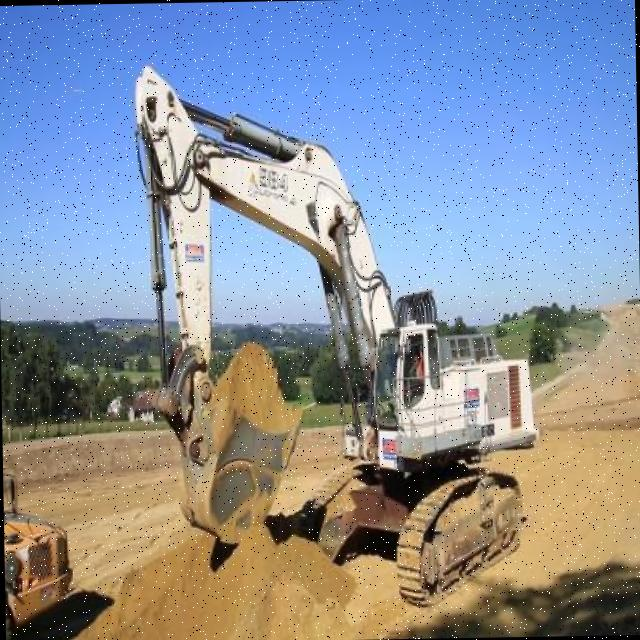Dump Truck: (2, 461, 71, 640)
Excavator: (132, 58, 542, 612)
